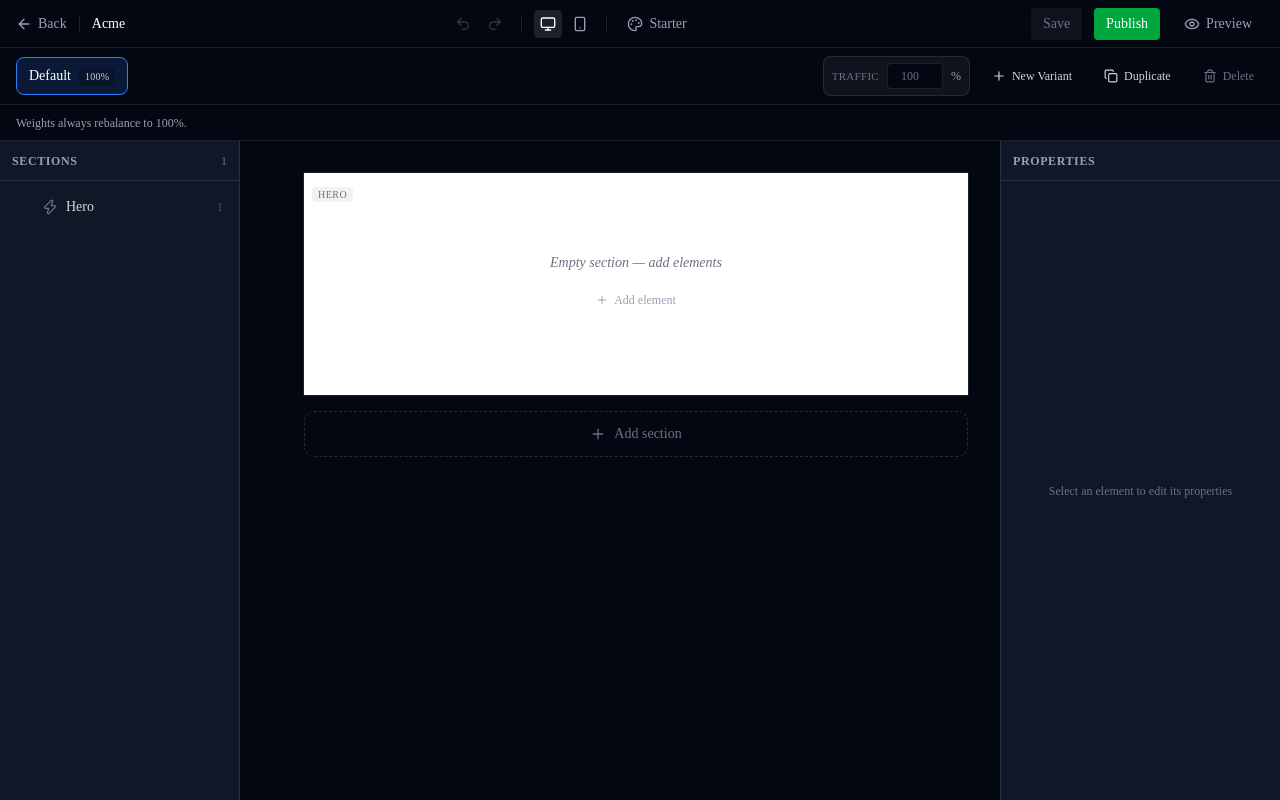
it: EditorShell › toggles preview mode and hides the side panels
The width and height of the screenshot is (1280, 800).
expect the heading "Sections" is shown: met, box [12,152,78,168]
expect the heading "Properties" is shown: met, box [1013,152,1095,168]
Click the button with aria-label "Preview page".
click(1218, 24)  # box [1172,8,1264,40]
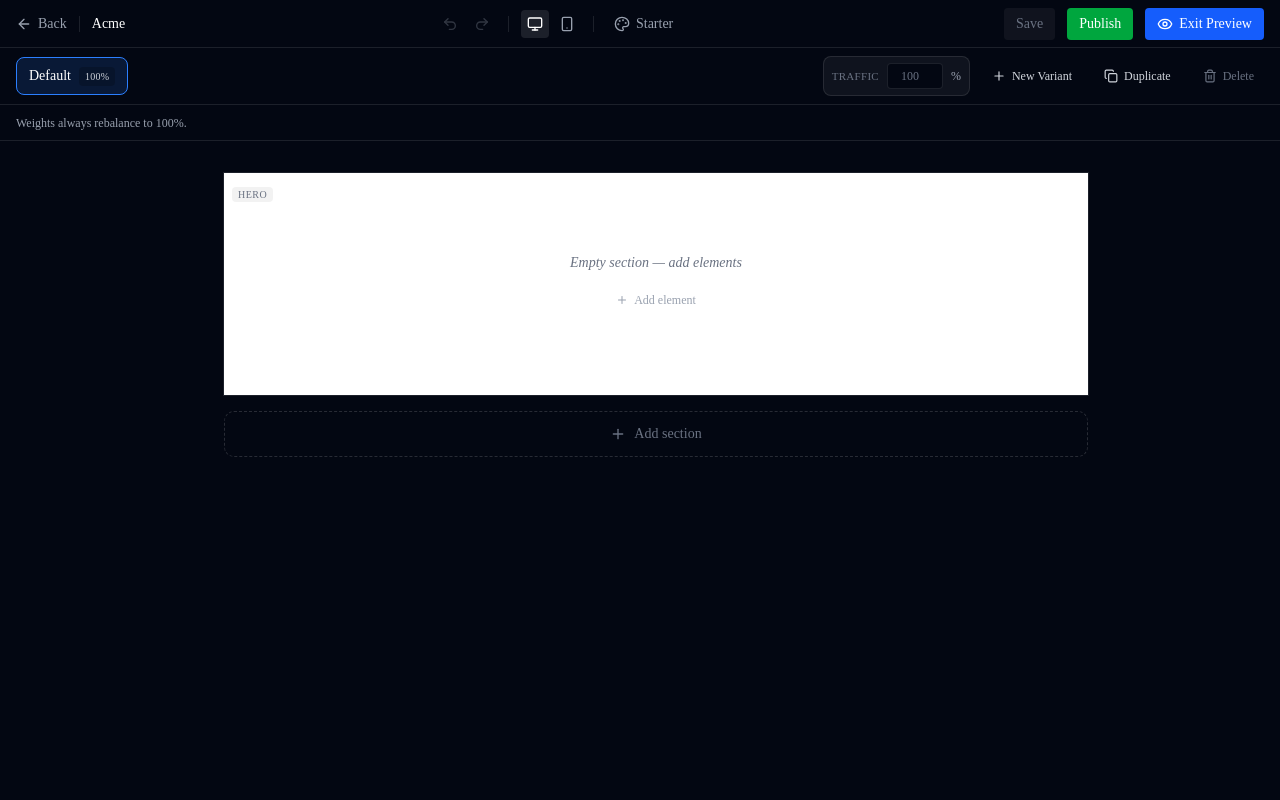
expect the heading "Sections" is gone: met
expect the heading "Properties" is gone: met
expect the button "Exit Preview" is shown: met, box [1145,8,1264,40]
